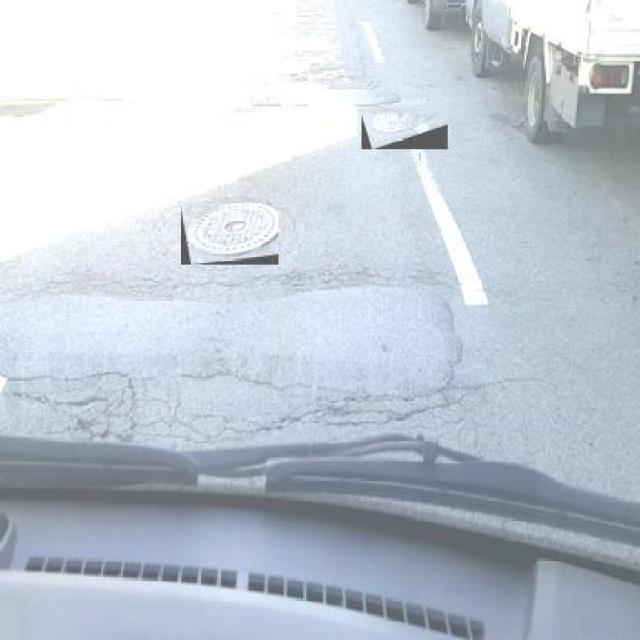Manhole: (180, 204, 278, 264), (362, 114, 448, 150)
Pothole: (0, 99, 58, 115), (104, 96, 136, 108)
Unmarked Bump: (0, 286, 449, 376)
